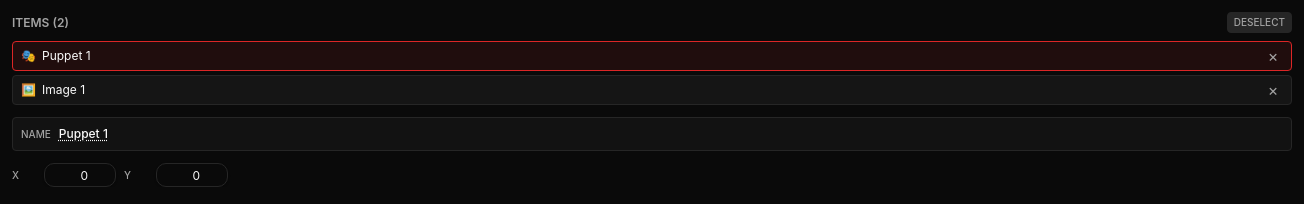
Test: Inspector › should allow deselecting the current item
Step 1. Click the button "Deselect" → point(1259, 22), box [1227,12,1292,33]
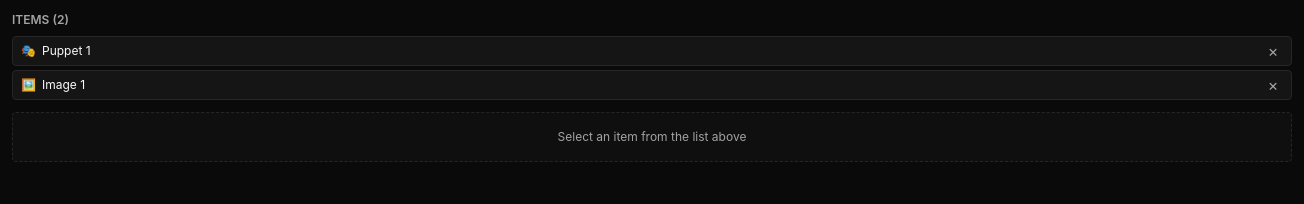
Expected: the button "Deselect" is gone
